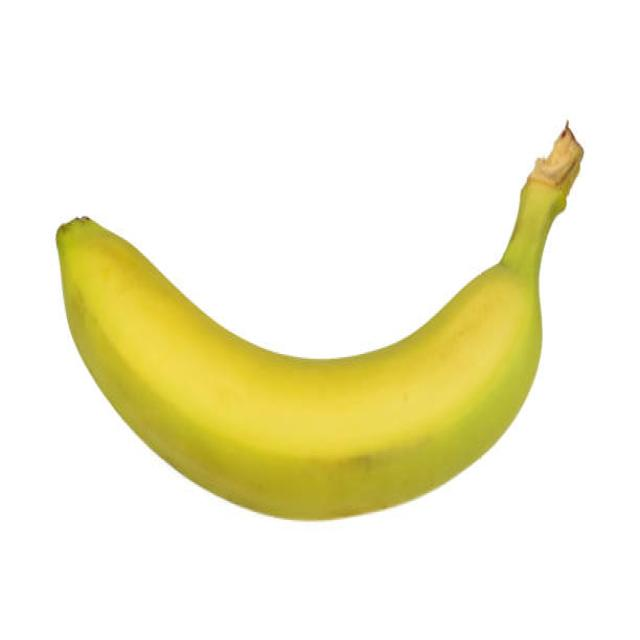banana: (53, 126, 584, 522)
